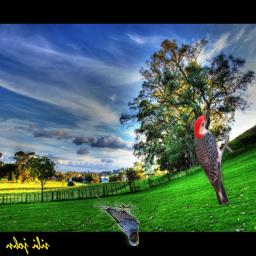Swallow: (93, 195, 139, 246)
Woodpecker: (194, 106, 234, 205)
